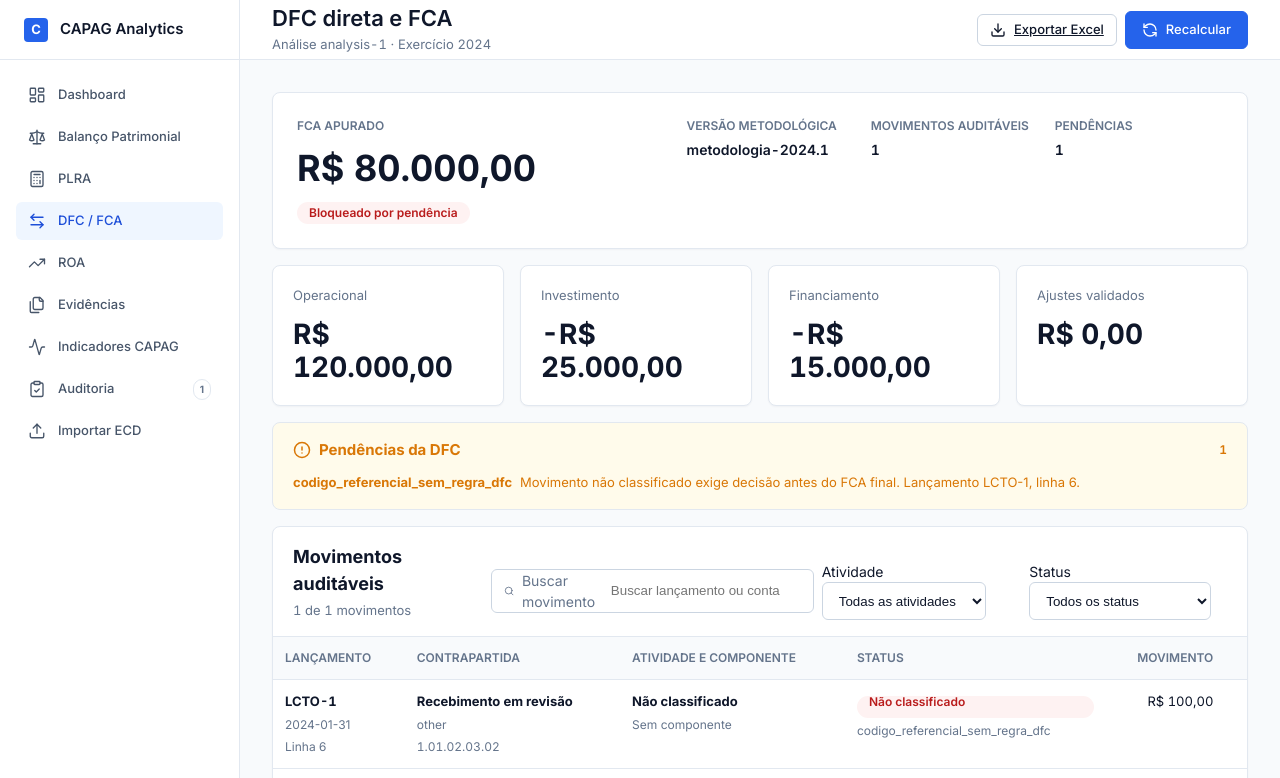
Test case: DFC route › filters audit rows without changing API values
The image size is (1280, 778).
Expected: the text "Recebimento em revisão" is shown, [417,693,573,709]
Step 1. Select "Investimento" in the dropdown labelled "Atividade" → (904, 601), box [822,582,986,620]
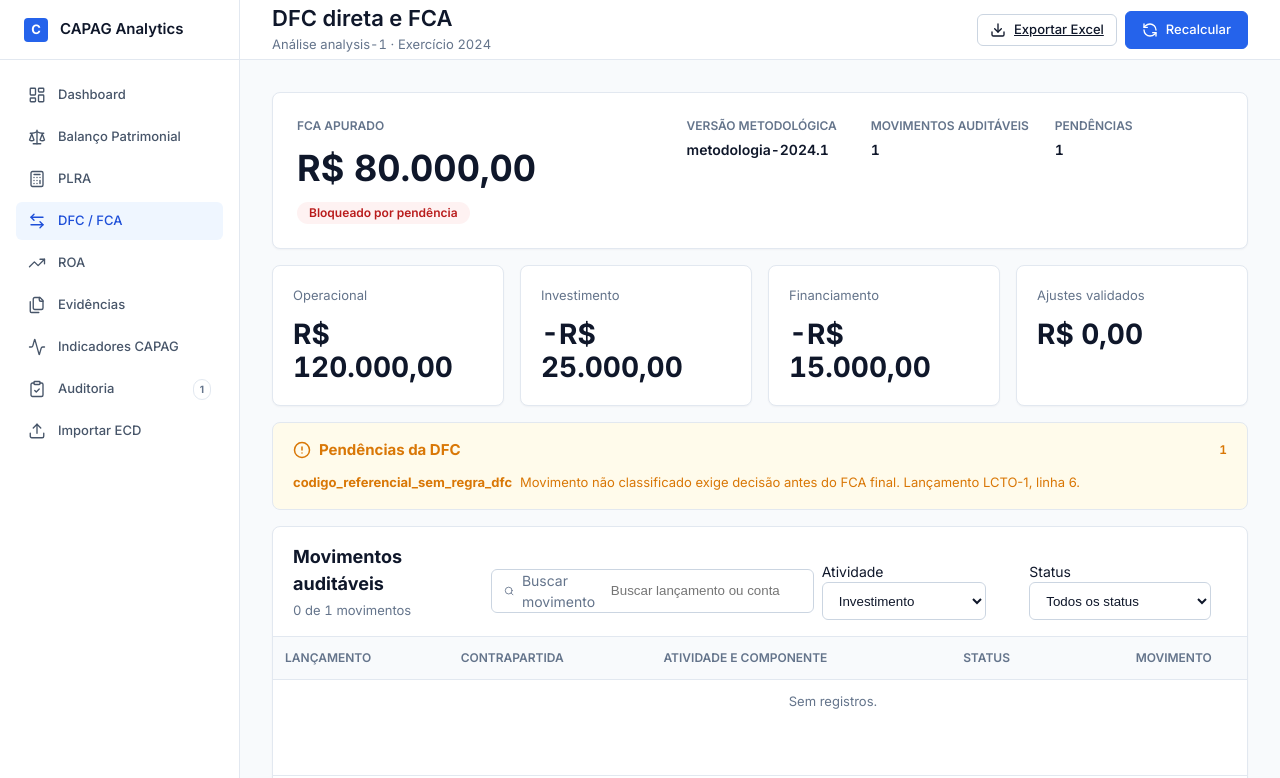
Expected: the text "R$ 80.000,00" is shown, [297,147,536,190]
Expected: the text "Sem registros." is shown, [273,680,1247,776]
